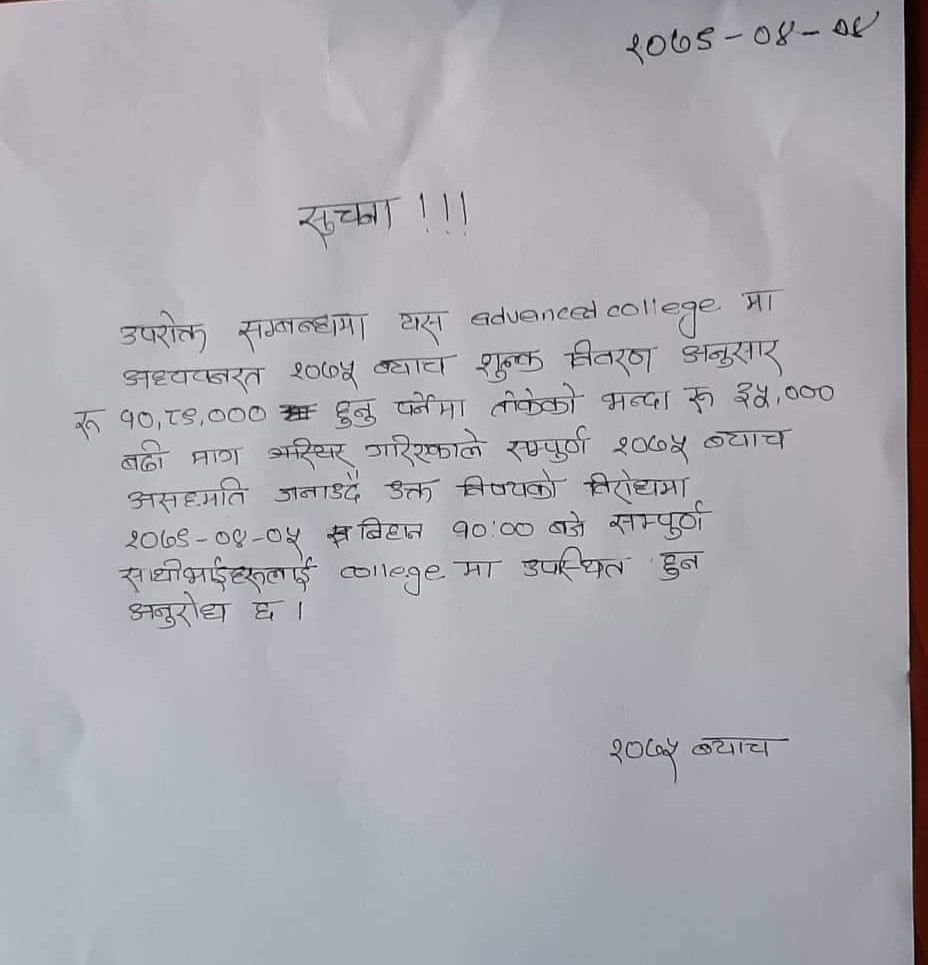text: (621, 7, 883, 69), (117, 553, 316, 592), (236, 310, 368, 353), (121, 523, 305, 552), (296, 197, 395, 248), (363, 427, 485, 468), (126, 472, 250, 512), (115, 399, 271, 429), (605, 732, 681, 790), (607, 501, 709, 543), (128, 591, 230, 633), (521, 545, 628, 585), (116, 310, 209, 354), (584, 466, 688, 505), (681, 338, 787, 376), (122, 366, 264, 394), (733, 377, 839, 413), (565, 337, 654, 377), (505, 424, 589, 466), (488, 383, 581, 420), (459, 470, 562, 503), (270, 471, 365, 506), (474, 346, 547, 386), (702, 426, 795, 456), (394, 390, 468, 425), (686, 735, 778, 761), (612, 433, 690, 463), (286, 357, 359, 389), (359, 514, 426, 547), (451, 517, 539, 541), (601, 386, 671, 416), (371, 354, 449, 380), (120, 435, 168, 476), (332, 395, 380, 431), (396, 311, 448, 344), (659, 546, 702, 582), (386, 478, 440, 506), (72, 404, 108, 445), (546, 510, 589, 541), (188, 446, 247, 468), (740, 286, 783, 314), (457, 557, 499, 581), (685, 385, 717, 414), (251, 595, 279, 623)
